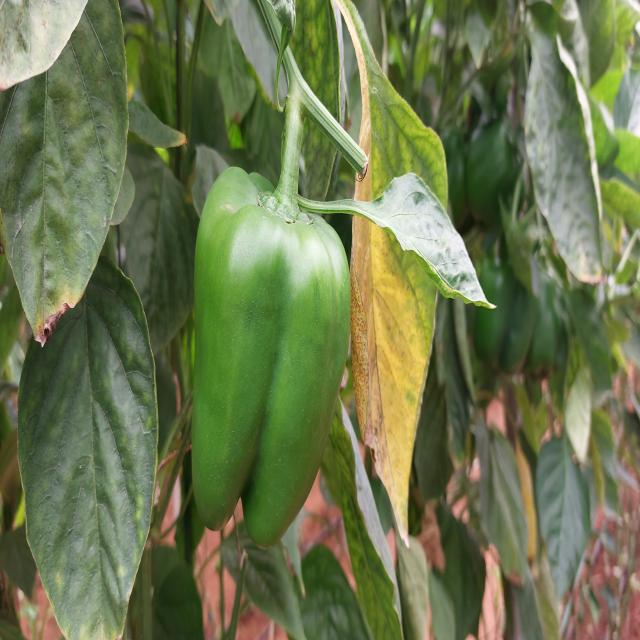Green--Not-ready-to-harvest: (191, 162, 353, 550)
